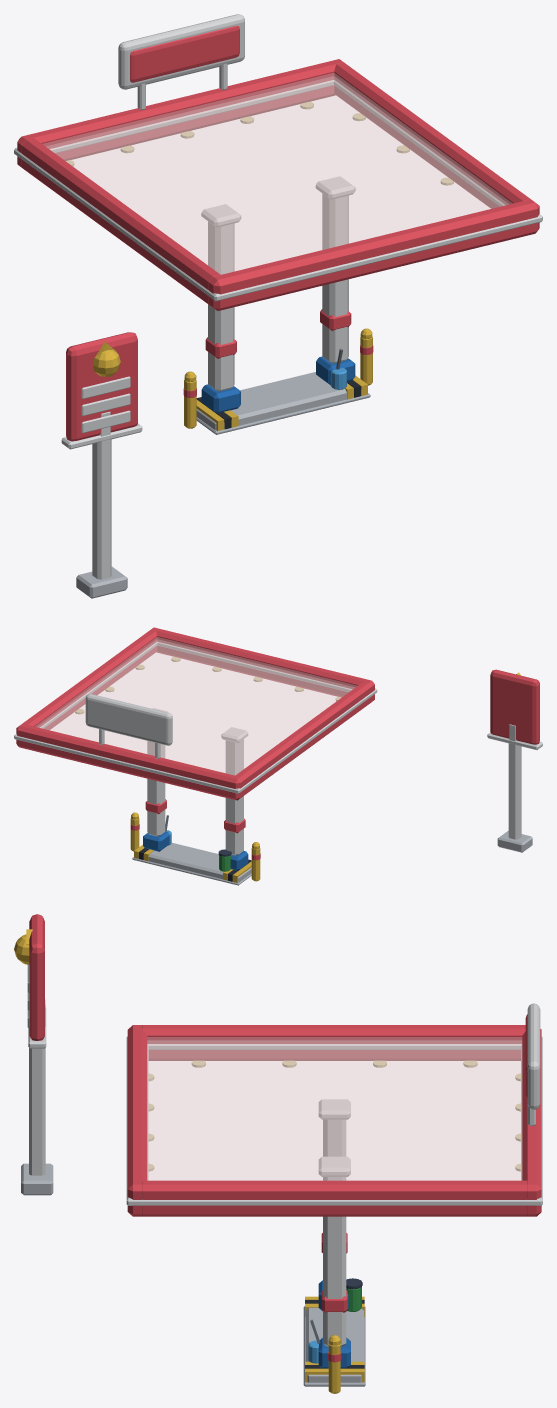
File: fuel-canopy.glb
3 renders of one model, top to bottom at view 1: azimuth 30°, elevation 25°; view 2: azimuth 150°, elevation 25°; view 3: azimuth 270°, elevation 25°, orthographic. The views are drawn at different scales.
Parts seen in each view (by area): view 1: fuel_canopy, fuel_canopy_glass; view 2: fuel_canopy, fuel_canopy_glass; view 3: fuel_canopy_glass, fuel_canopy.
Part boxes in pixels (box(x1,y1,x2,y2)): fuel_canopy: box(14, 14, 542, 598); fuel_canopy_glass: box(43, 73, 512, 274); fuel_canopy: box(14, 627, 542, 885); fuel_canopy_glass: box(35, 637, 356, 775); fuel_canopy_glass: box(147, 1037, 522, 1180); fuel_canopy: box(14, 914, 542, 1393).
Size of the model in its own units: 9.6 by 5.38 by 8.18.
